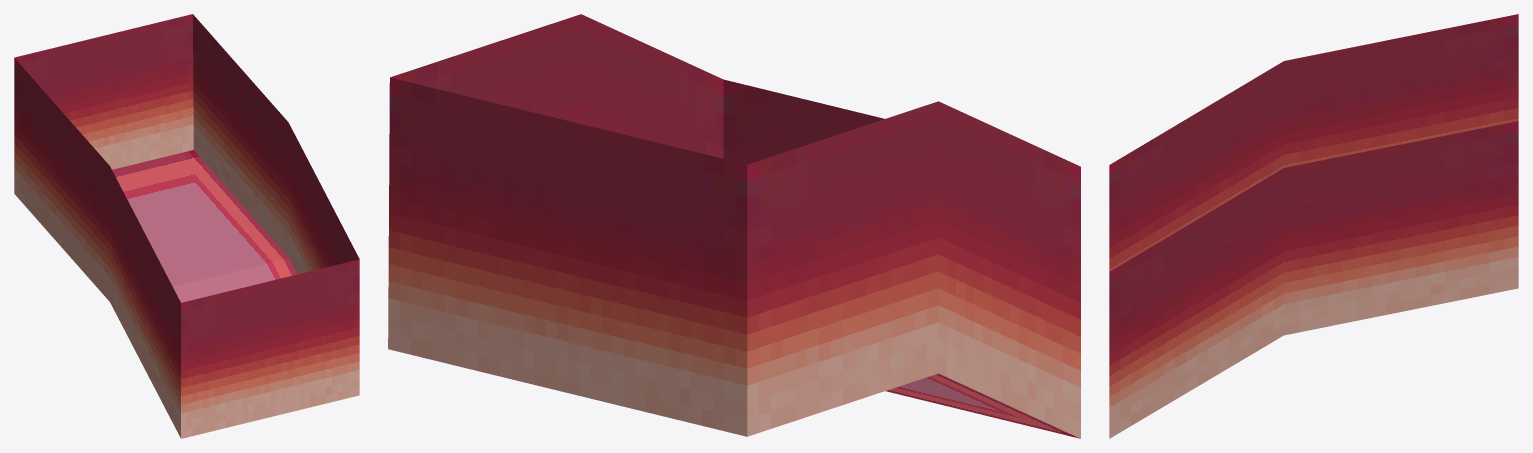
File: atktile_b.dae
3 views of the same model, side by side, from view 1: azimuth 30°, elevation 25°; view 2: azimuth 150°, elevation 25°; view 3: azimuth 270°, elevation 25° (orthographic). The views are drawn at different scales.
Parts seen in each view (by area): view 1: atktile_bridge; view 2: atktile_bridge; view 3: atktile_bridge.
Boxes of the visible parts, x1,y1,x2,y2 form: atktile_bridge: (14, 14, 359, 438); atktile_bridge: (388, 14, 1080, 438); atktile_bridge: (1109, 14, 1518, 438).
Size of the model in its own units: 1.37 by 2.2 by 1.89.
1 material, 1 textured.
